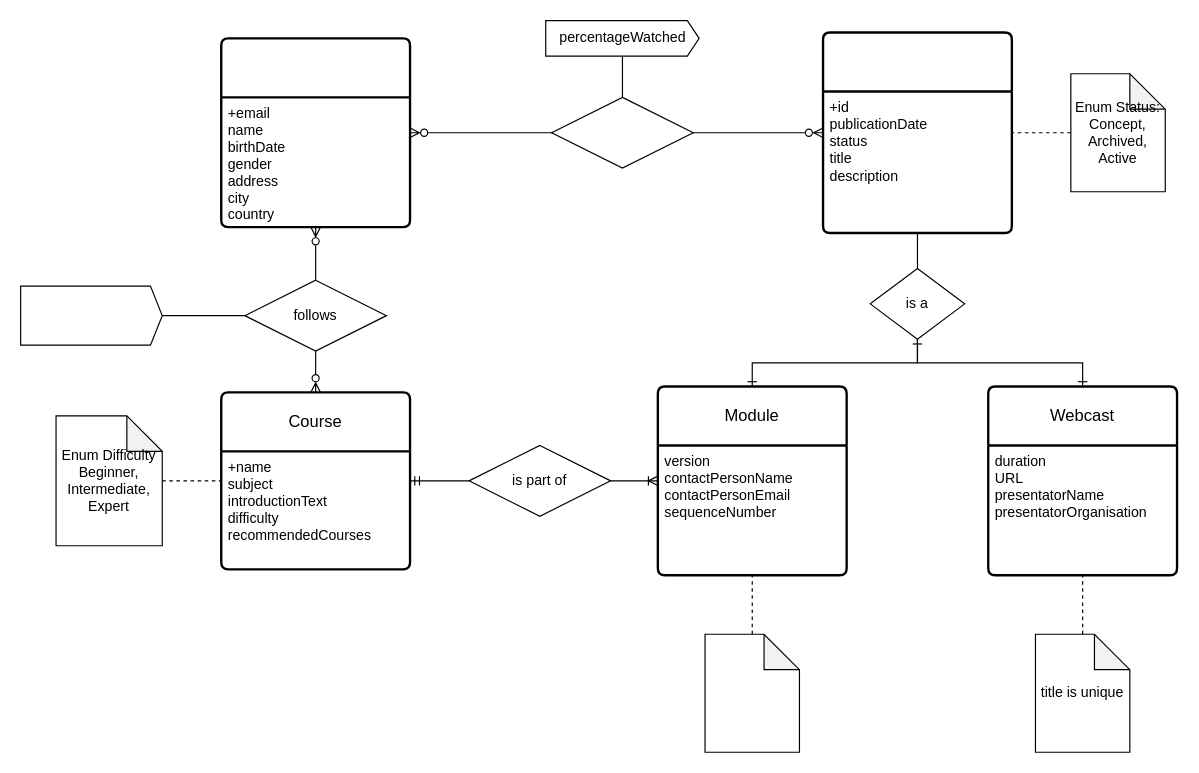
Image size: 1199x773. Some labels were removed from this diagram. Each missing label, with the box of its shape:
+studentEmail +courseName +enrollmentDate: (19, 285, 162, 345)
Content: (821, 31, 1012, 234)
Student: (219, 37, 411, 228)
version combination is unique: (704, 633, 799, 752)
watches: (550, 96, 693, 168)
